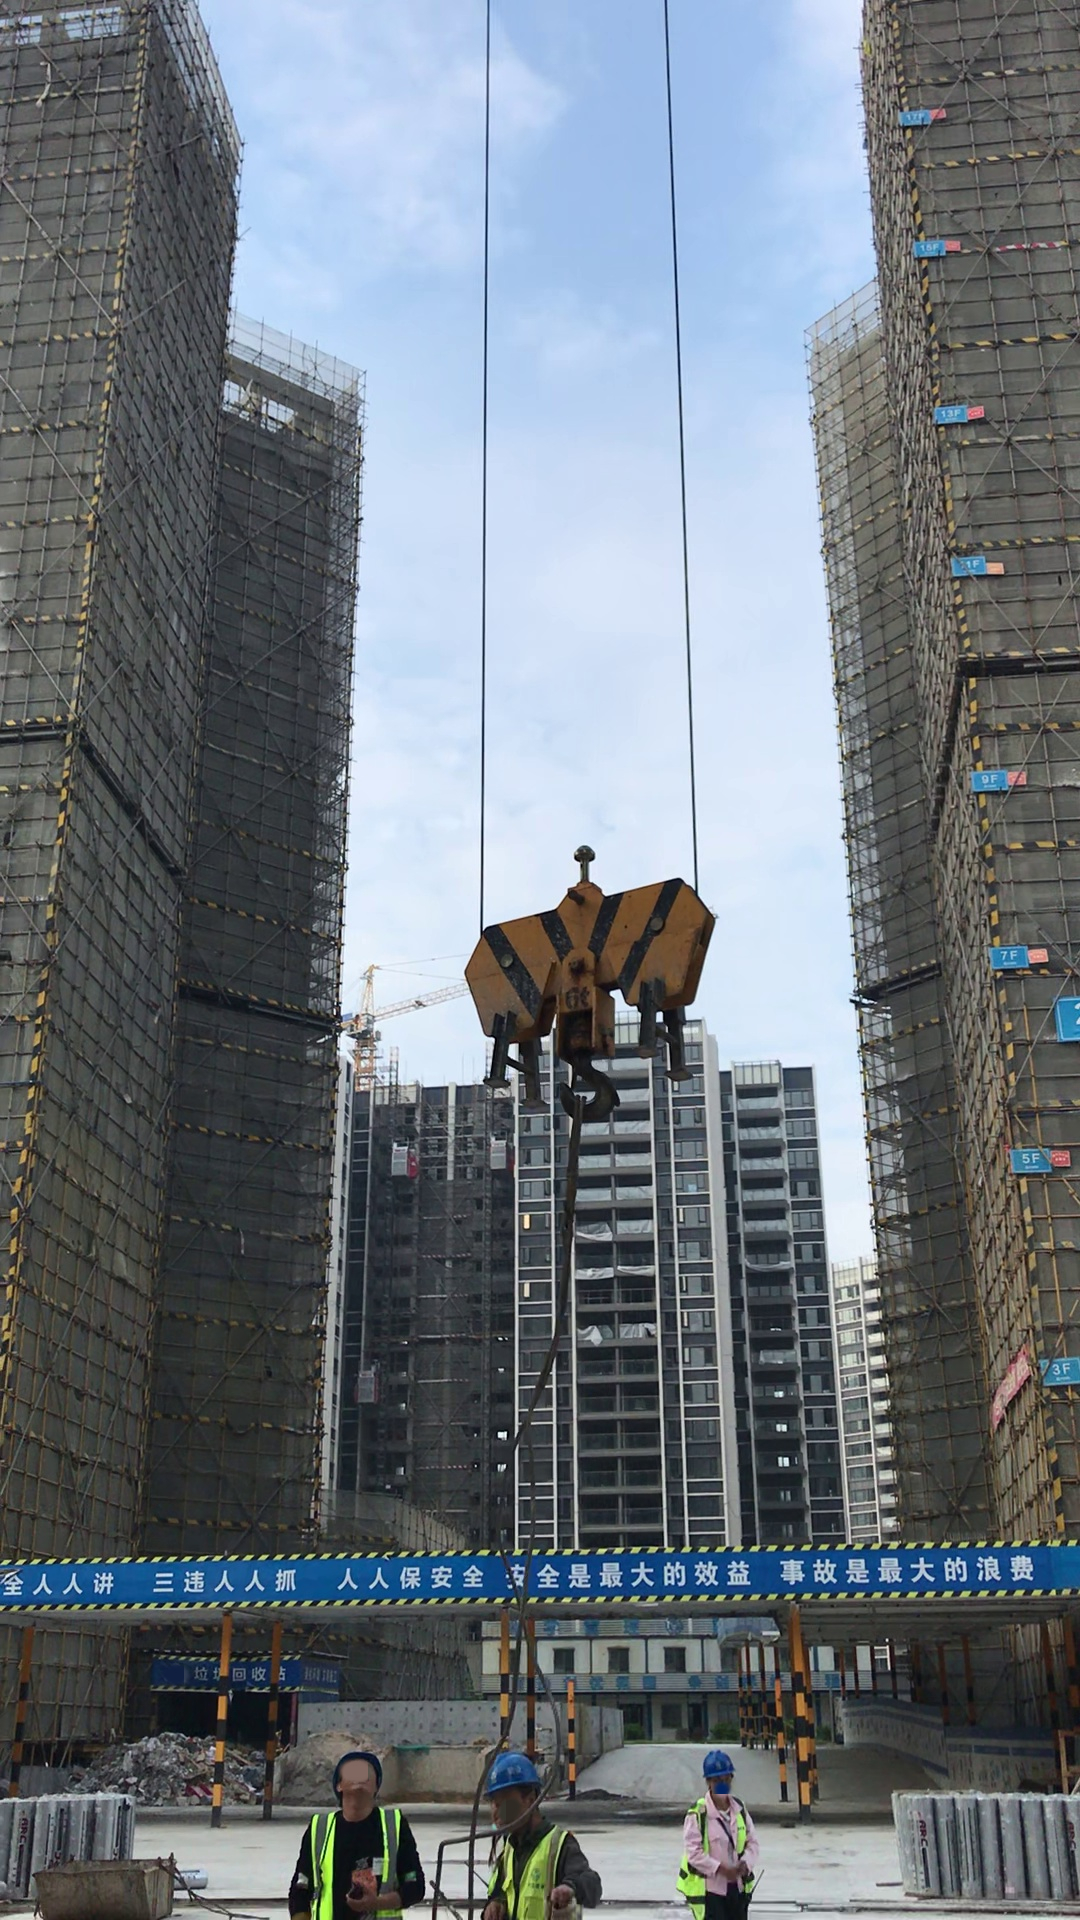helmet: (480, 1747, 546, 1807), (696, 1747, 745, 1791)
hook: (458, 851, 725, 1130)
hopper: (28, 1848, 178, 1920)
person: (289, 1741, 422, 1920), (463, 1754, 606, 1920), (669, 1747, 764, 1918)
slogan: (2, 1559, 1055, 1598), (158, 1657, 343, 1692), (975, 1342, 1034, 1444), (896, 227, 986, 269), (886, 86, 951, 141), (922, 397, 995, 439), (960, 756, 1034, 798), (933, 544, 1014, 580), (1008, 1138, 1075, 1178), (990, 938, 1051, 971), (1034, 1353, 1080, 1390)
vest: (297, 1804, 407, 1920), (673, 1798, 758, 1909), (490, 1834, 576, 1920)
